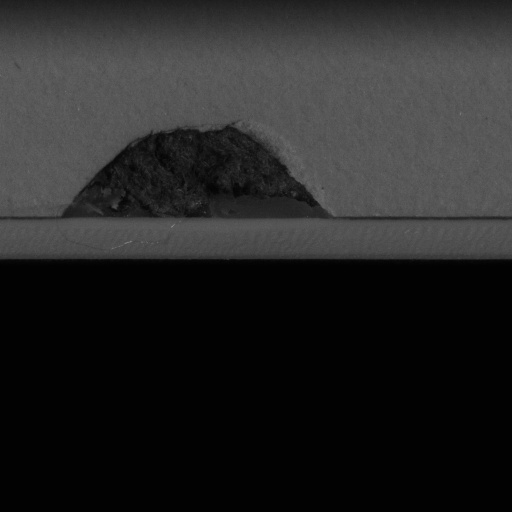bengque: (54, 125, 344, 222)
